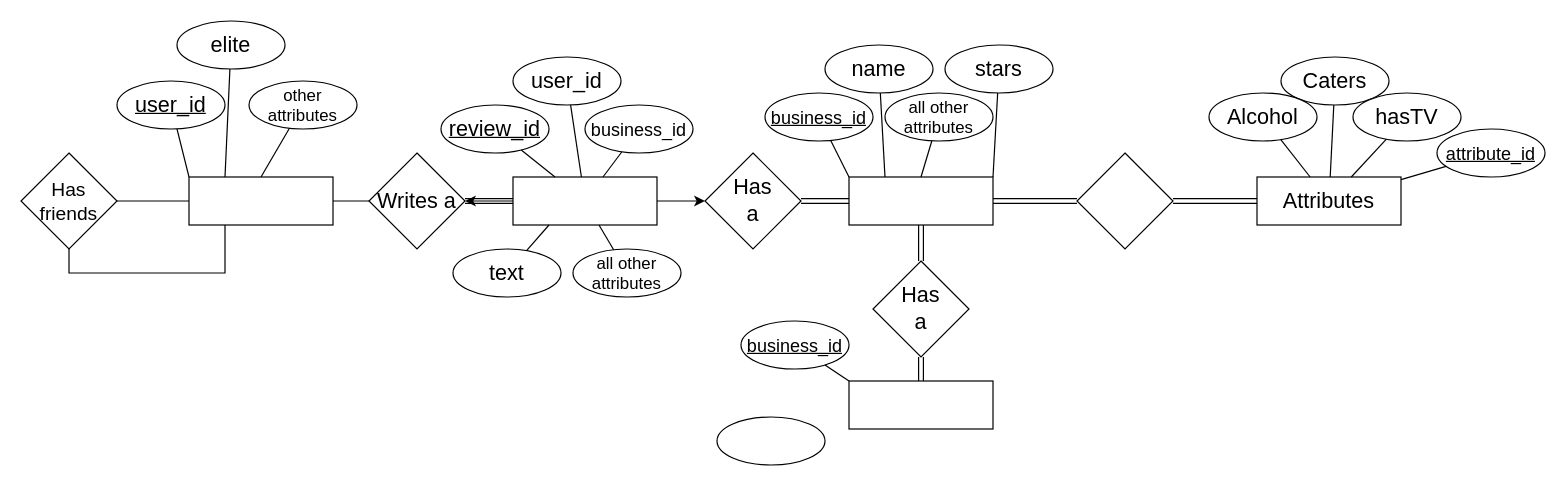
Some shapes in this 1566 by 486 pixel diagram are drawn without their labels. The shapes that lost their labels are listed below. From the top down, each one's centre as x and y in pixels, then its label:
At (x=260, y=200): "user".
At (x=584, y=200): "review".
At (x=920, y=200): "Business".
At (x=1124, y=200): "Has attribute".
At (x=920, y=404): "checkin".
At (x=770, y=440): "sun - monday attributes".
